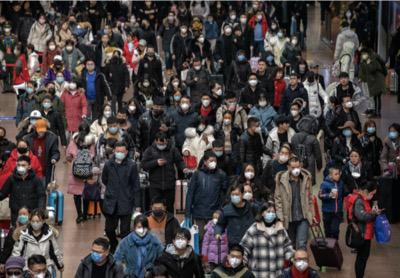mask_weared_incorrect: (278, 151, 289, 163), (146, 49, 154, 57)
with_mask: (294, 257, 309, 272), (227, 254, 242, 269), (89, 248, 103, 263), (173, 236, 187, 250), (263, 210, 276, 224), (30, 267, 46, 278), (151, 206, 164, 219), (134, 225, 147, 238), (29, 219, 42, 231), (17, 212, 28, 226), (289, 165, 301, 177), (230, 192, 241, 205), (341, 127, 353, 138), (114, 149, 125, 161), (16, 163, 27, 175), (342, 98, 353, 109), (206, 159, 217, 170), (16, 144, 27, 155), (244, 168, 254, 180), (242, 189, 252, 201), (5, 270, 20, 278), (388, 129, 398, 140), (364, 192, 375, 201), (180, 100, 189, 111), (155, 142, 166, 151), (104, 145, 113, 156), (366, 125, 376, 134), (222, 116, 231, 126), (116, 114, 125, 124), (107, 125, 117, 134), (29, 117, 38, 127), (42, 100, 51, 110), (212, 149, 223, 157), (254, 12, 263, 21), (248, 78, 257, 87), (153, 106, 162, 115), (102, 108, 111, 117), (46, 86, 55, 95), (226, 100, 236, 108), (253, 124, 261, 134), (201, 97, 209, 107), (25, 85, 33, 95), (325, 100, 332, 111), (290, 108, 298, 117), (223, 26, 231, 35), (214, 87, 222, 96), (197, 123, 205, 132), (85, 63, 93, 72), (211, 216, 218, 226), (360, 52, 368, 60), (289, 38, 297, 46), (171, 80, 179, 88), (173, 94, 181, 102), (127, 104, 135, 112), (53, 59, 61, 67), (258, 100, 267, 107), (192, 64, 201, 71), (55, 75, 62, 84), (237, 54, 244, 62), (197, 36, 204, 44), (141, 80, 149, 87), (68, 82, 75, 90), (251, 2, 258, 9), (307, 76, 314, 83), (266, 55, 273, 62), (180, 27, 187, 34), (112, 54, 119, 61), (65, 45, 72, 52), (276, 30, 282, 38), (102, 27, 108, 35), (68, 18, 74, 26), (270, 23, 276, 30), (298, 64, 305, 70), (229, 13, 235, 20), (239, 17, 246, 23), (167, 15, 173, 22), (140, 22, 146, 29), (115, 23, 121, 30), (89, 1, 96, 7), (48, 44, 54, 51), (3, 27, 9, 34), (36, 131, 44, 136), (345, 11, 351, 17), (38, 18, 44, 24), (68, 37, 73, 44), (12, 48, 17, 55), (49, 9, 54, 16), (206, 17, 211, 23), (179, 7, 184, 13), (145, 1, 151, 6), (130, 17, 135, 23), (33, 74, 38, 80), (24, 13, 30, 18), (120, 22, 124, 28), (216, 3, 220, 8), (184, 54, 188, 59), (193, 21, 198, 24)
without_mask: (349, 154, 360, 165), (331, 171, 340, 182), (339, 76, 348, 86), (257, 63, 265, 72), (289, 77, 297, 85), (282, 122, 289, 130), (276, 72, 283, 80), (311, 67, 318, 73), (101, 37, 107, 44), (138, 45, 145, 51), (236, 30, 241, 37), (126, 36, 131, 42), (61, 23, 66, 29), (14, 6, 18, 12)
